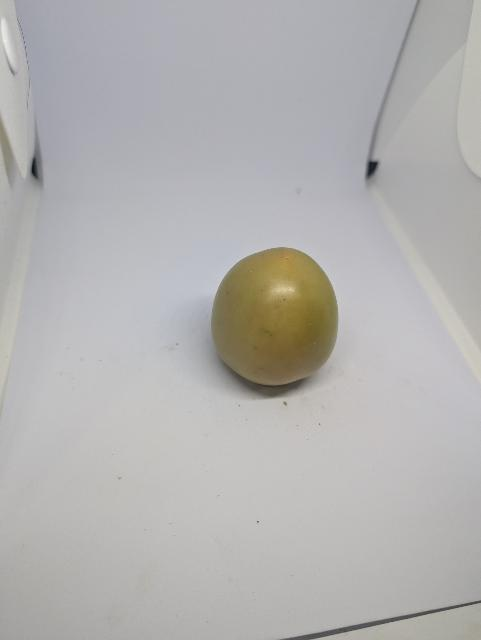breaker: (212, 248, 339, 385)
